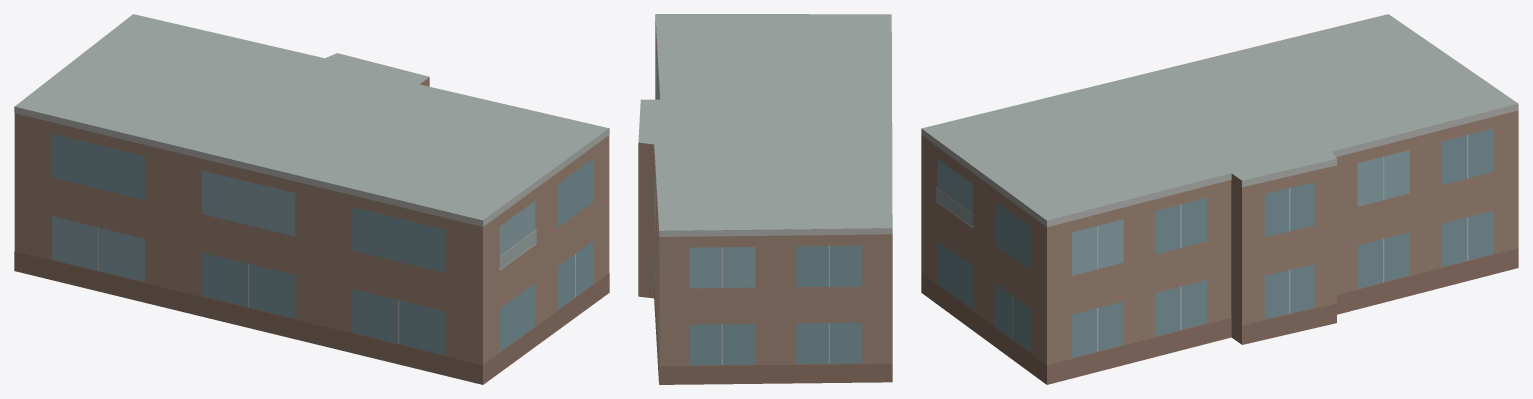
The model's file is survey-upis-32630919.glb.
3 views of the same model, side by side, from view 1: azimuth 30°, elevation 25°; view 2: azimuth 150°, elevation 25°; view 3: azimuth 270°, elevation 25° (orthographic). The views are drawn at different scales.
Visible parts, largest first — view 1: survey-upis-32630919.tmp; view 2: survey-upis-32630919.tmp; view 3: survey-upis-32630919.tmp.
Part boxes in pixels (x1,y1,x2,y2): survey-upis-32630919.tmp: (14,14,609,384); survey-upis-32630919.tmp: (638,14,892,384); survey-upis-32630919.tmp: (921,14,1518,384).
Bounding box in the file's own units: 16.48 × 6.1 × 20.12.
